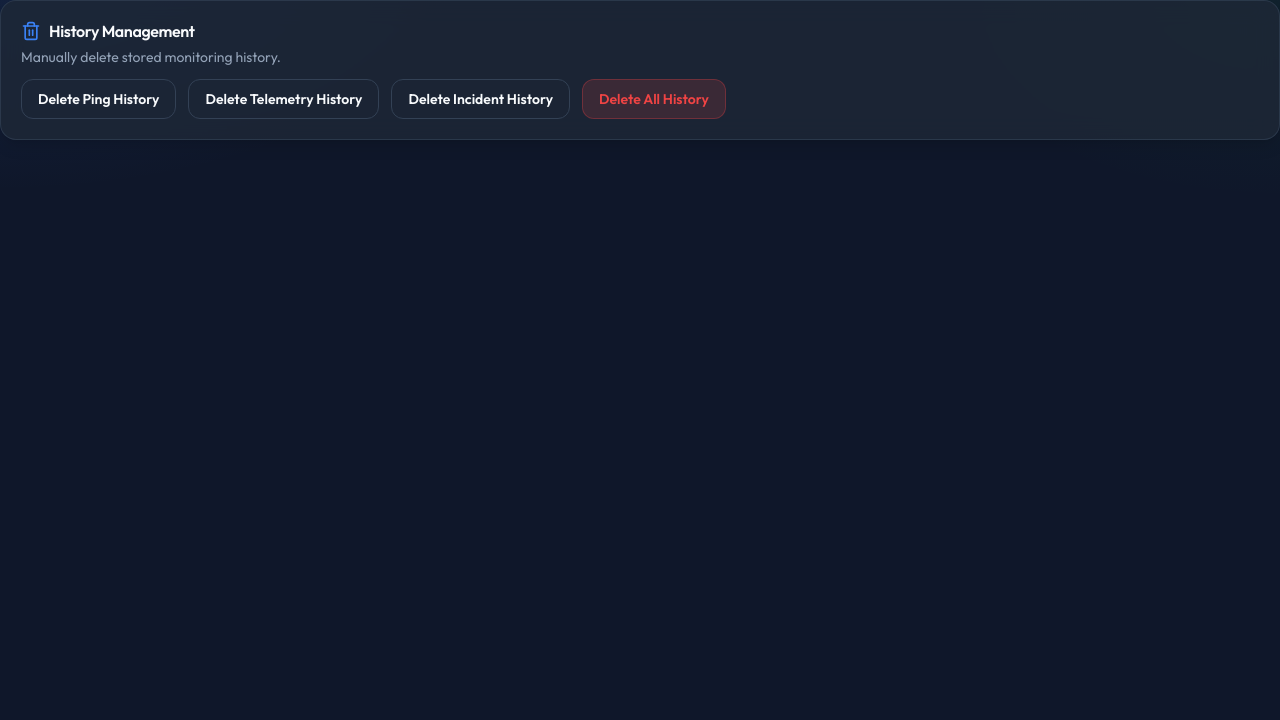
Scenario: HistoryManagementSection › requires typing DELETE for all scope
Click the button "Delete All History".
click(654, 99)  # box left=582, top=79, right=726, bottom=119
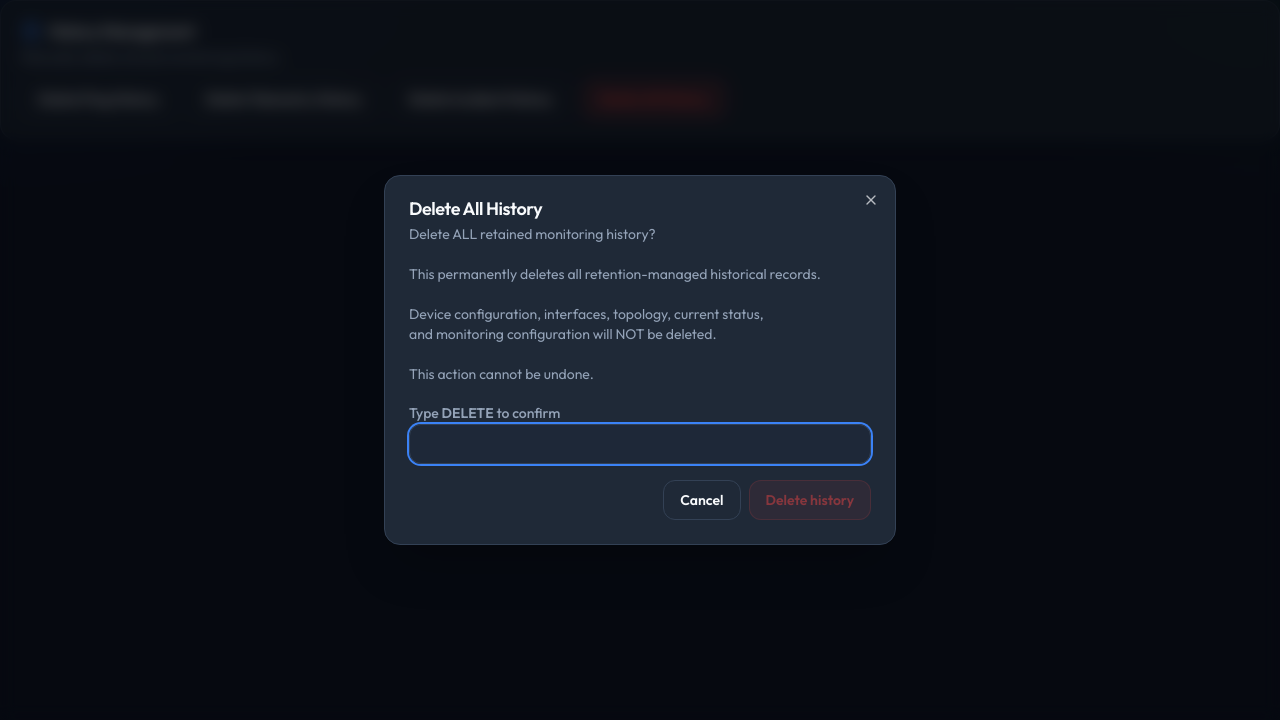
Now the button "Delete history" is disabled, box left=749, top=480, right=871, bottom=520
Type "DELETE" into the field labelled "Type DELETE to confirm".
click(640, 444); type("DELETE")  # box left=409, top=424, right=871, bottom=464
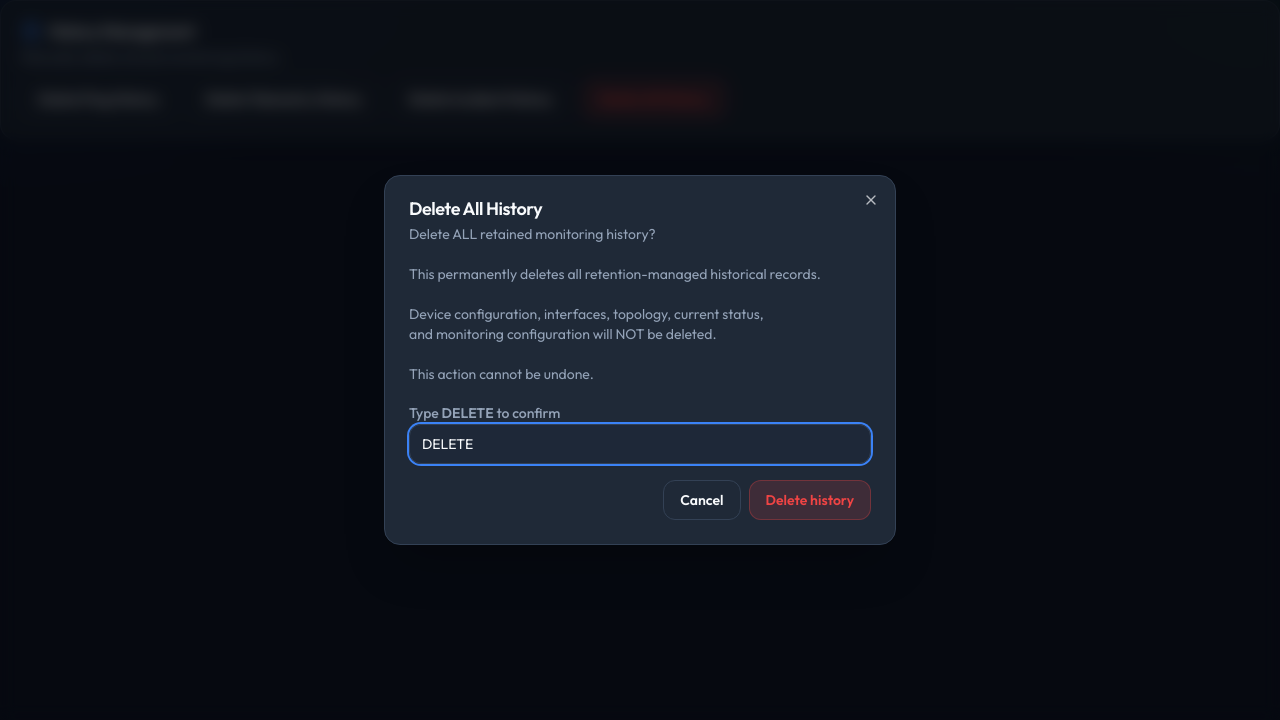
Now the button "Delete history" is enabled, box left=749, top=480, right=871, bottom=520
